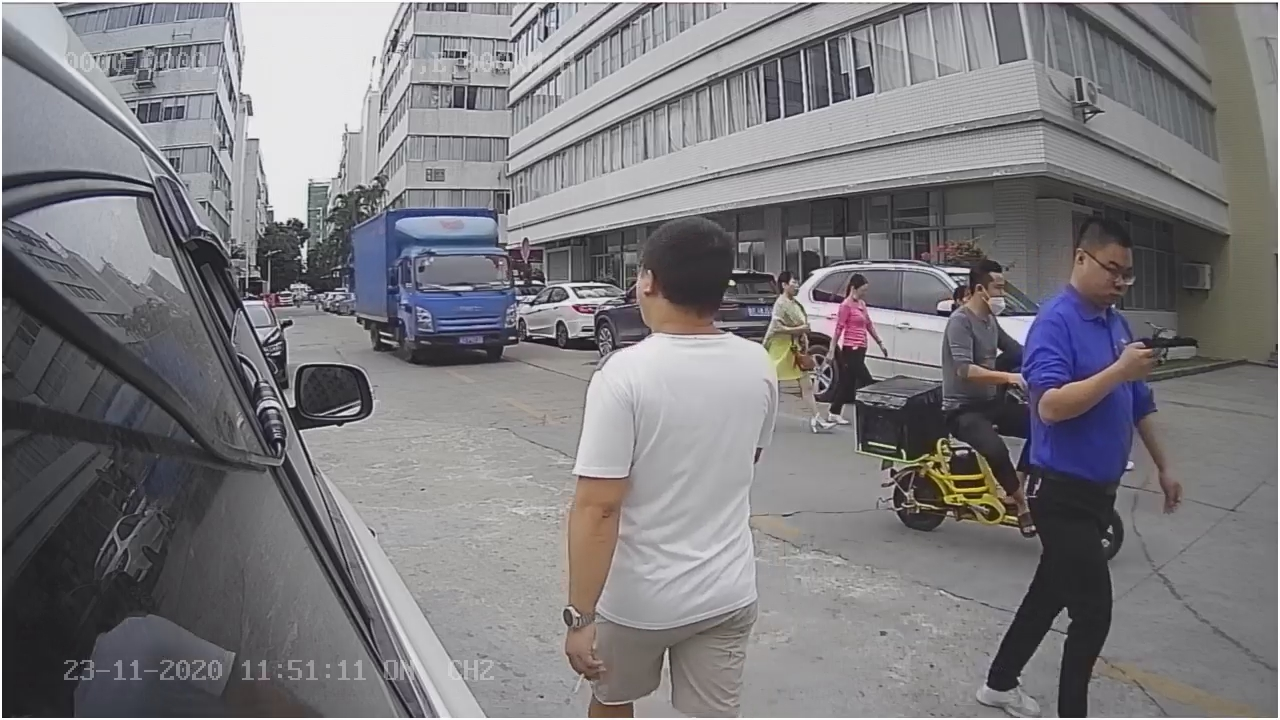person: (559, 220, 790, 560), (1019, 204, 1186, 537)
